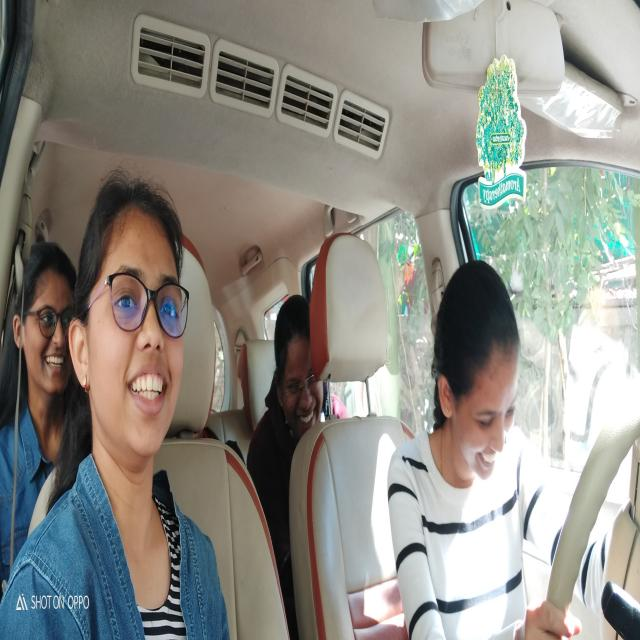drowsy: (436, 254, 524, 486)
person: (70, 168, 190, 481), (13, 241, 80, 409), (271, 288, 324, 447)
